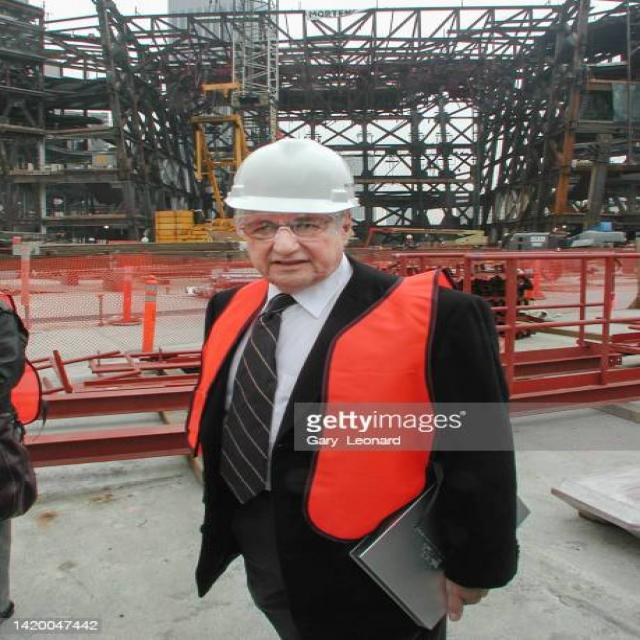Reflective-Jacket: (180, 268, 467, 540)
Safety-Helmet: (213, 132, 375, 225)
